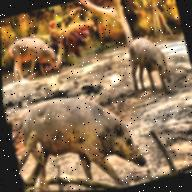boar: (3, 59, 155, 192), (1, 21, 70, 93), (117, 25, 179, 101)
